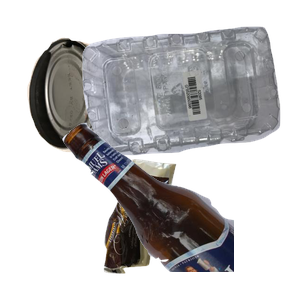glass: (60, 120, 300, 300)
metal: (25, 35, 189, 180)
plastic: (80, 24, 300, 172)
trash: (101, 157, 270, 300)
